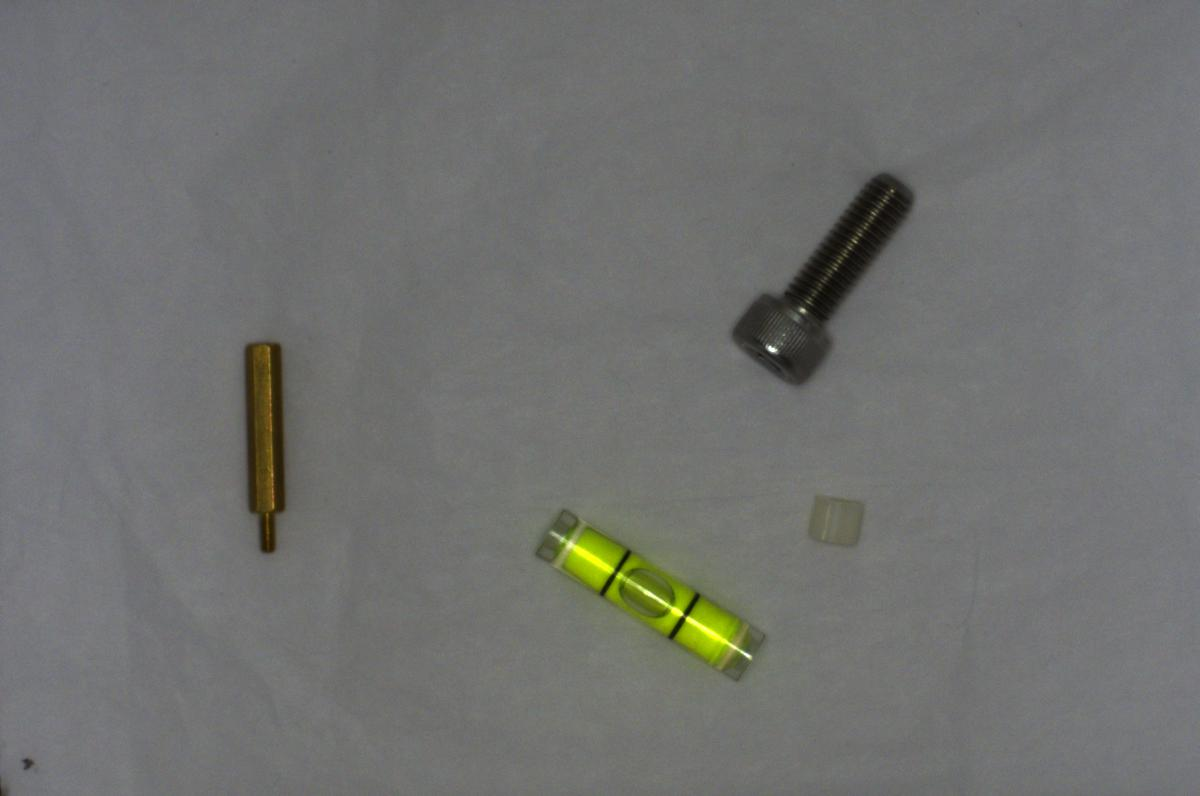Hexagon pillar: (238, 338, 290, 556)
Hexagon screw: (710, 169, 918, 385)
Horizontal bubble: (521, 507, 768, 690)
Plastic cushion pillar: (798, 480, 872, 555)
